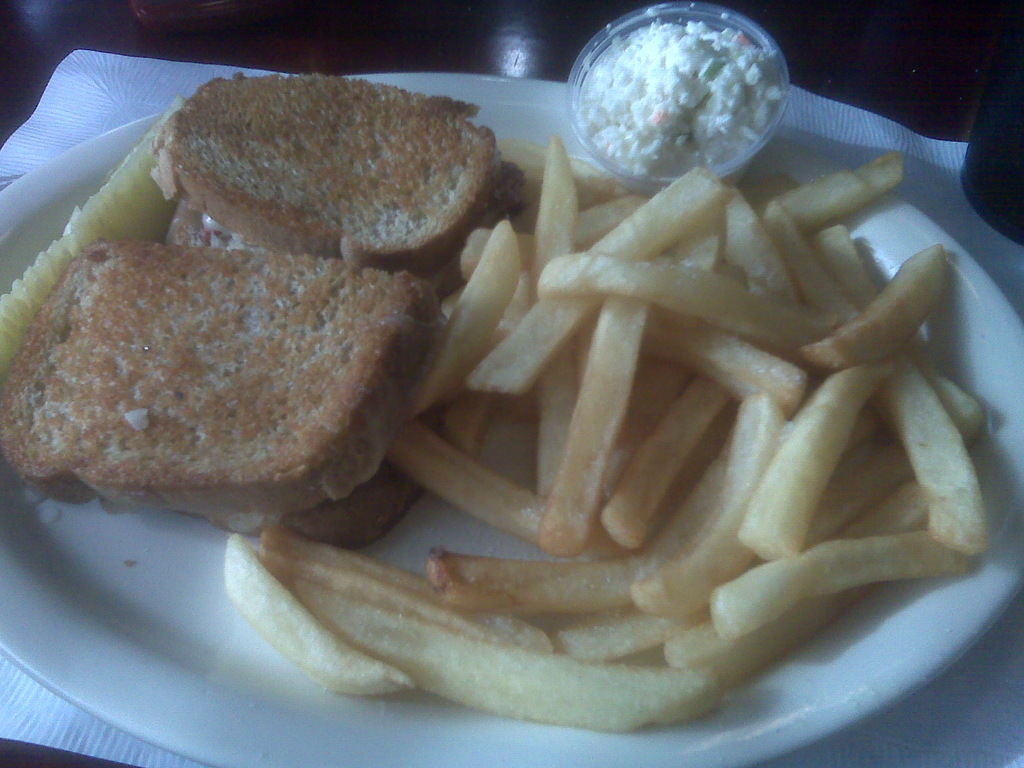French fries: (252, 121, 999, 720)
